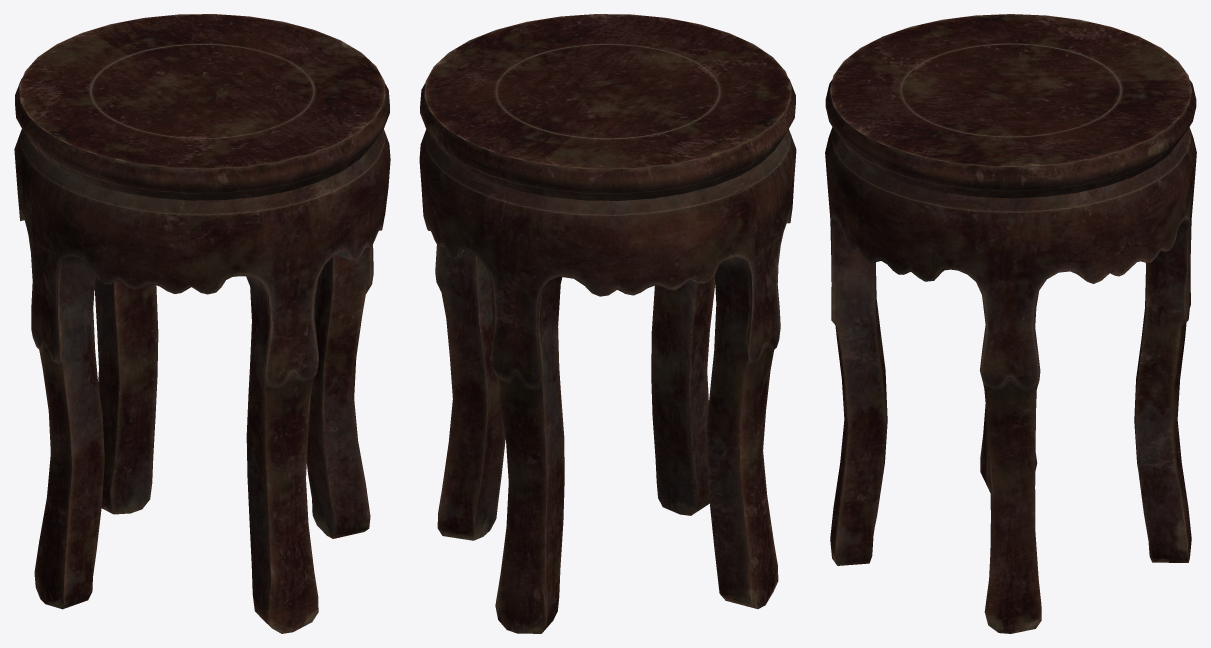
File: WoodenTable_02_1k.gltf
3 renders of one model, left to right at view 1: azimuth 30°, elevation 25°; view 2: azimuth 150°, elevation 25°; view 3: azimuth 270°, elevation 25°, orthographic.
Parts seen in each view (by area): view 1: WoodenTable_02; view 2: WoodenTable_02; view 3: WoodenTable_02.
Part boxes in pixels (x1,y1,x2,y2): WoodenTable_02: (14,14,390,633); WoodenTable_02: (419,14,796,633); WoodenTable_02: (825,14,1196,633).
Size of the model in its own units: 0.3007 by 0.4177 by 0.3007.
Materials: 1 (1 with a texture image).
